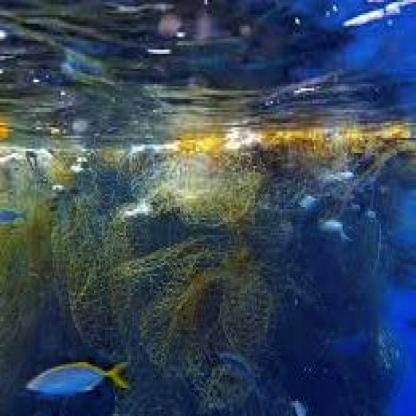net: (62, 151, 279, 368)
